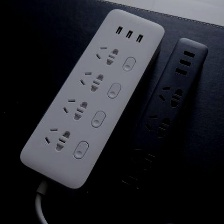three_eye_plug: (16, 5, 166, 200), (105, 34, 210, 209)
